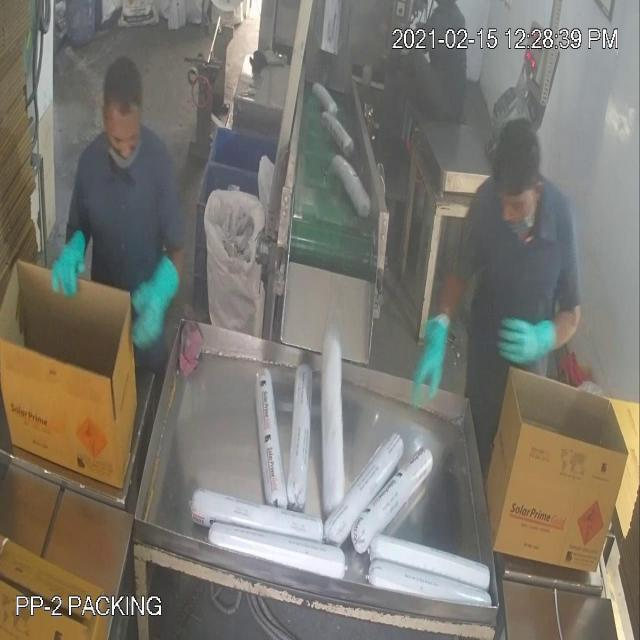Gloves: (54, 92, 535, 358)
